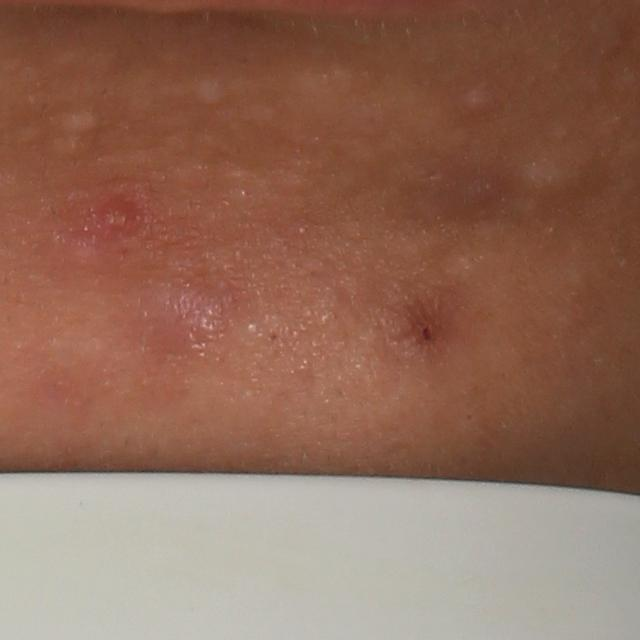comedo: (462, 82, 496, 120)
hypertrophic_scar: (242, 63, 403, 157), (505, 144, 602, 199), (101, 63, 192, 113), (270, 152, 333, 199), (51, 38, 130, 70), (163, 152, 222, 194), (44, 132, 99, 159), (55, 109, 108, 134), (195, 73, 229, 106)
papule: (133, 286, 224, 355), (86, 189, 162, 248)
